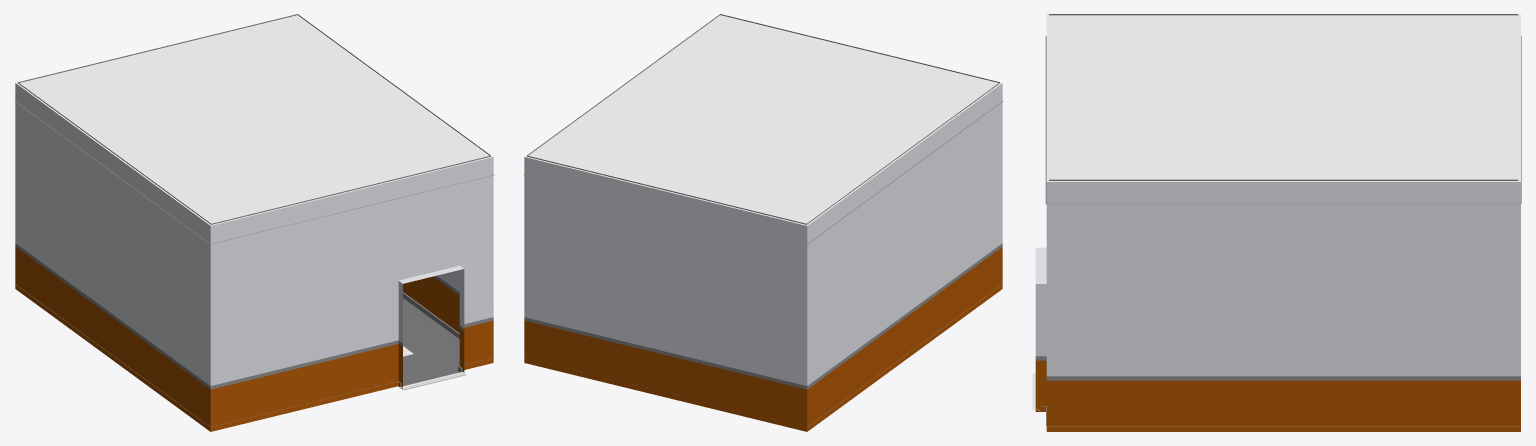
File: SM_H_Building_Tide_Examinationroom_09_ATLAS.fbx
3 views of the same model, side by side, from view 1: azimuth 30°, elevation 25°; view 2: azimuth 150°, elevation 25°; view 3: azimuth 270°, elevation 25° (orthographic). The views are drawn at different scales.
Parts seen in each view (by area): view 1: SM_H_Building_Tide_Examinationroom_09_ATLAS; view 2: SM_H_Building_Tide_Examinationroom_09_ATLAS; view 3: SM_H_Building_Tide_Examinationroom_09_ATLAS.
Part boxes in pixels (bbox=[...]): SM_H_Building_Tide_Examinationroom_09_ATLAS: bbox=[14, 14, 494, 431]; SM_H_Building_Tide_Examinationroom_09_ATLAS: bbox=[523, 14, 1003, 431]; SM_H_Building_Tide_Examinationroom_09_ATLAS: bbox=[1032, 14, 1521, 431].
Size of the model in its own units: 721 by 885 by 501.
